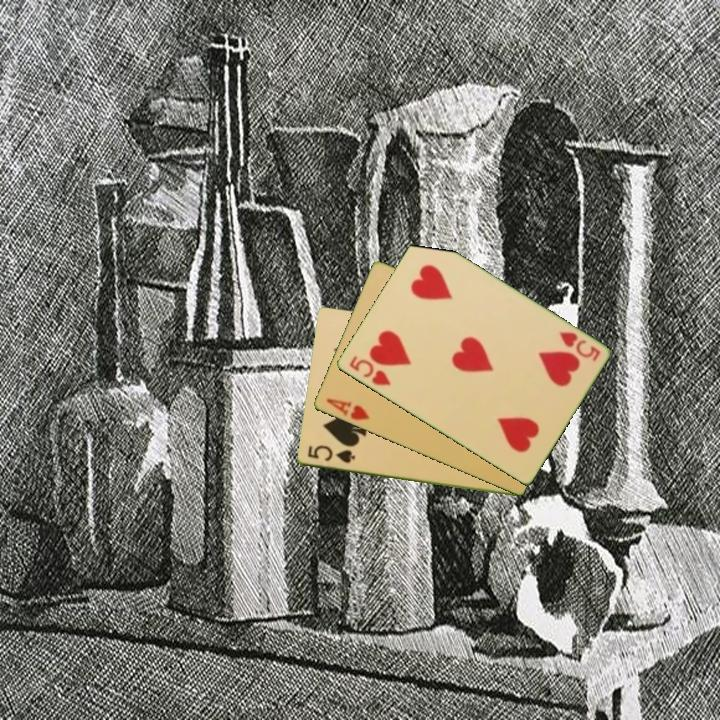5h: (345, 352, 394, 389), (555, 328, 603, 364)
5s: (304, 442, 358, 466)
Ah: (322, 395, 372, 423)
